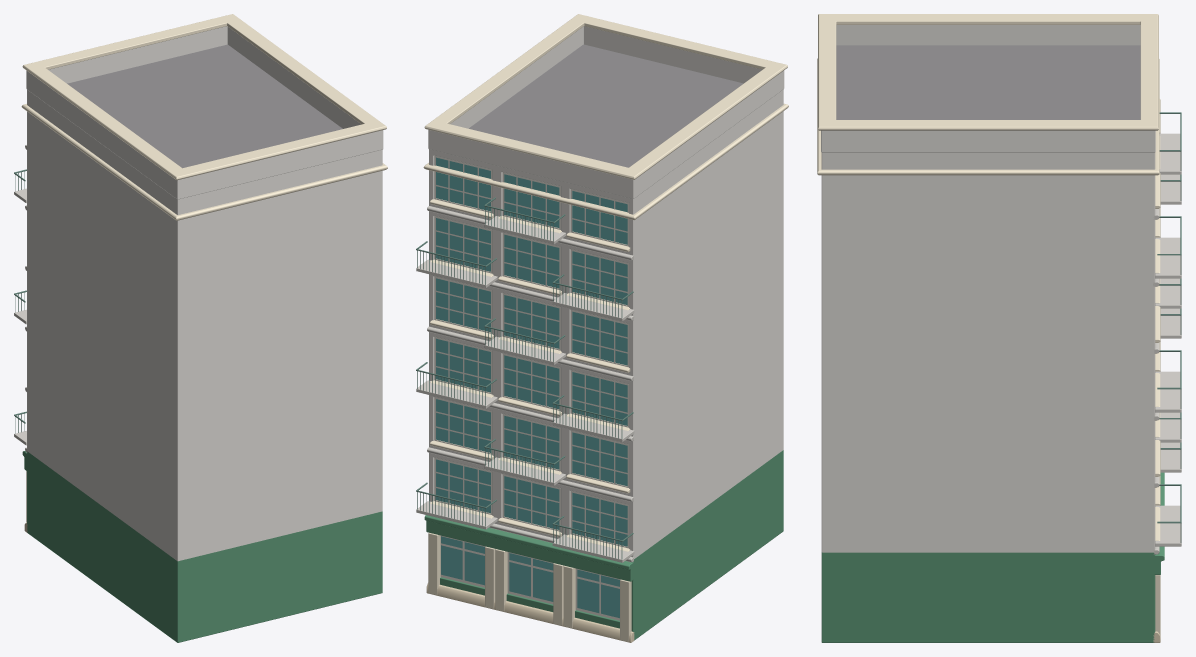
Rendered from far_panel_6.glb.
3 renders of one model, left to right at view 1: azimuth 30°, elevation 25°; view 2: azimuth 150°, elevation 25°; view 3: azimuth 270°, elevation 25°, orthographic. The views are drawn at different scales.
Visible parts, largest first — view 1: shell, trim, props; view 2: shell, trim, frames, props; view 3: shell, trim, props.
Boxes of the visible parts, left/top/right/bottom form: shell: left=27, top=44, right=382, bottom=642; trim: left=21, top=14, right=387, bottom=533; props: left=14, top=169, right=26, bottom=445; shell: left=429, top=44, right=783, bottom=640; trim: left=423, top=14, right=788, bottom=642; frames: left=434, top=155, right=628, bottom=620; props: left=416, top=197, right=634, bottom=562; shell: left=821, top=45, right=1155, bottom=642; trim: left=817, top=14, right=1164, bottom=642; props: left=1155, top=112, right=1181, bottom=546.
Bounding box in the file's own units: 11.36 × 23.95 × 15.29.
